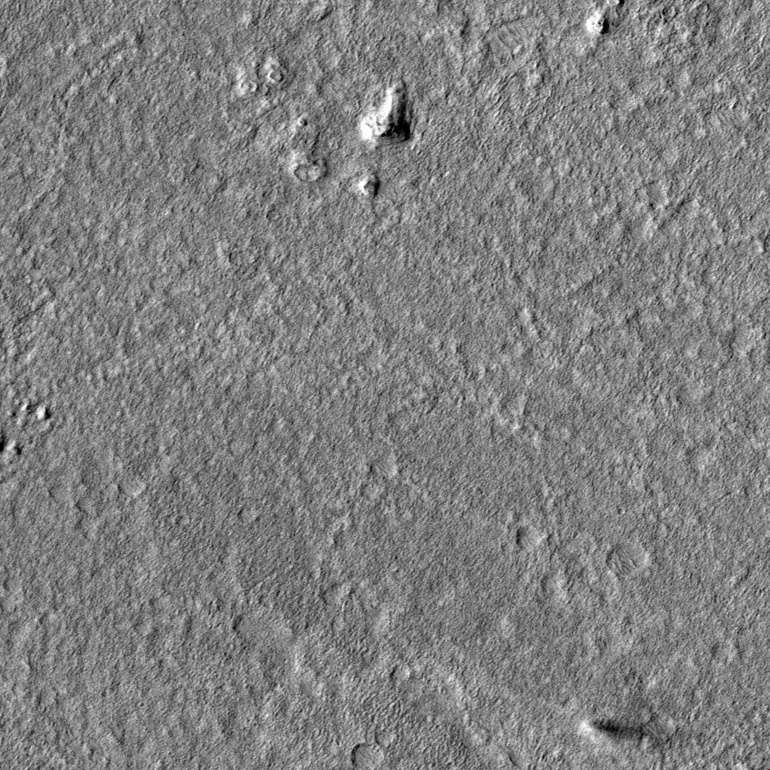dust_devil: (575, 717, 659, 748)
